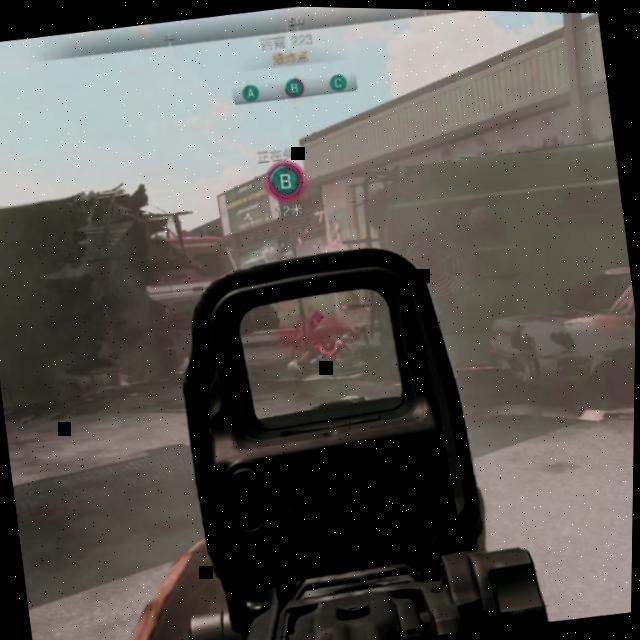MW2_body: (282, 305, 357, 375)
